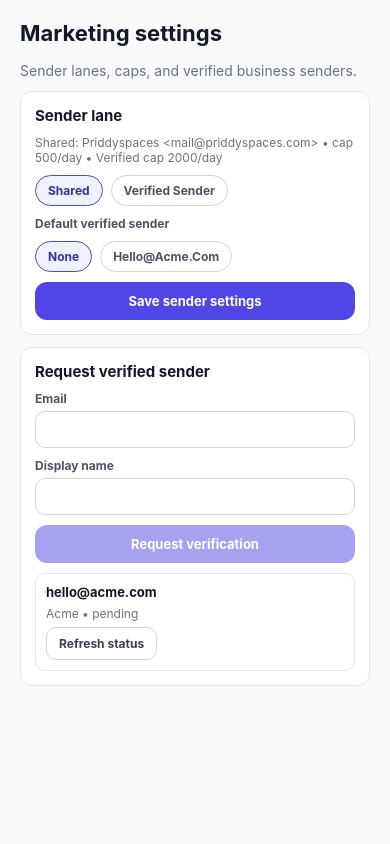
Test case: OwnerMarketingSettingsScreen › saves the sender lane selection with web's payload
Click the button with aria-label "Lane verified_sender" at coordinates (169, 190), box [111,175,228,206]
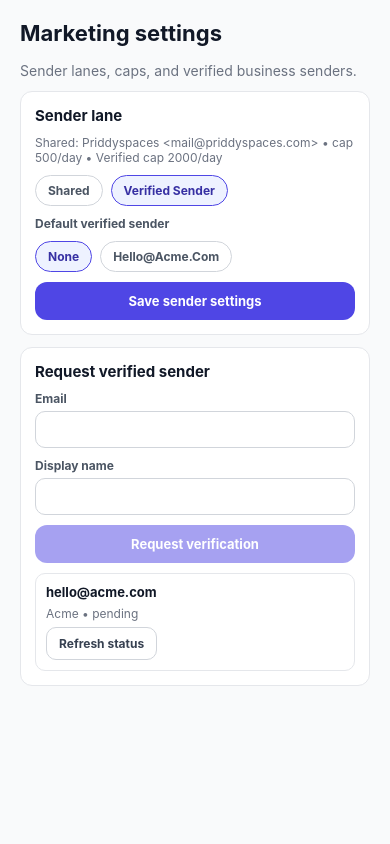
Click the button with aria-label "Verified sender hello@acme.com" at coordinates (166, 256), box [100,241,232,272]
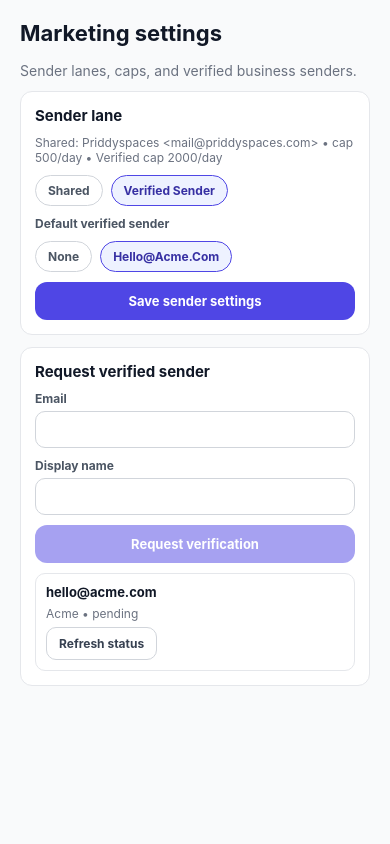
Click the button labelled "Save sender settings" at coordinates (195, 301), box [35,282,355,320]
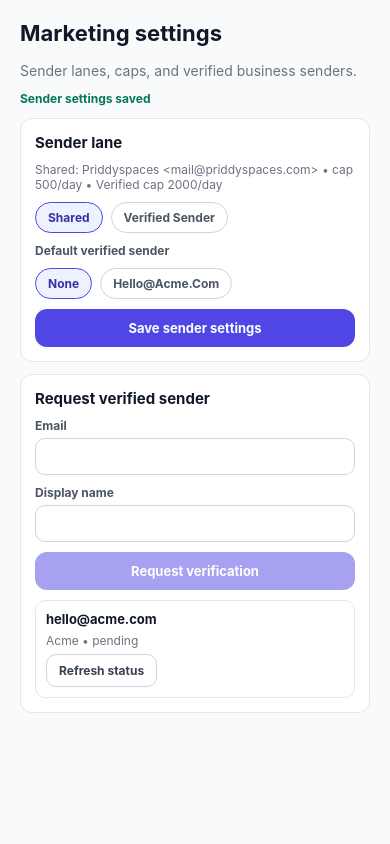
Now the text "Sender settings saved" is shown, box [20,91,150,106]
